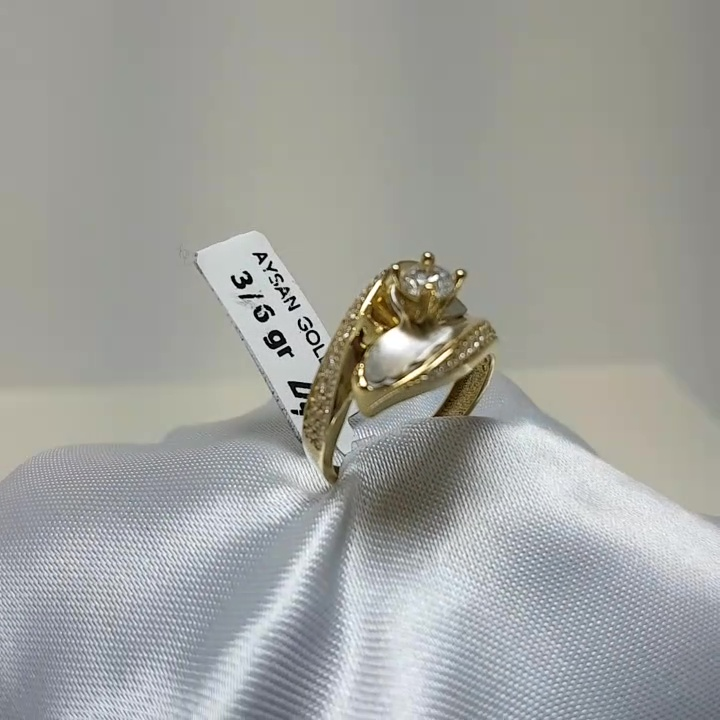Ring 6: (270, 233, 530, 527)
